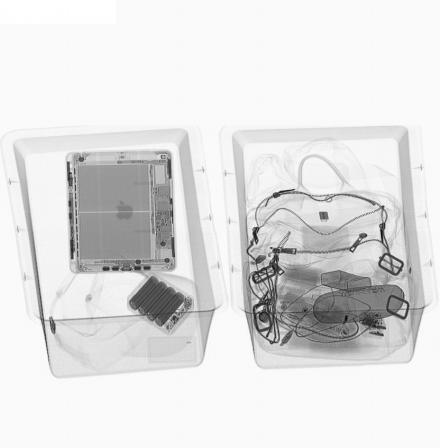Powerbank: (126, 273, 198, 336)
